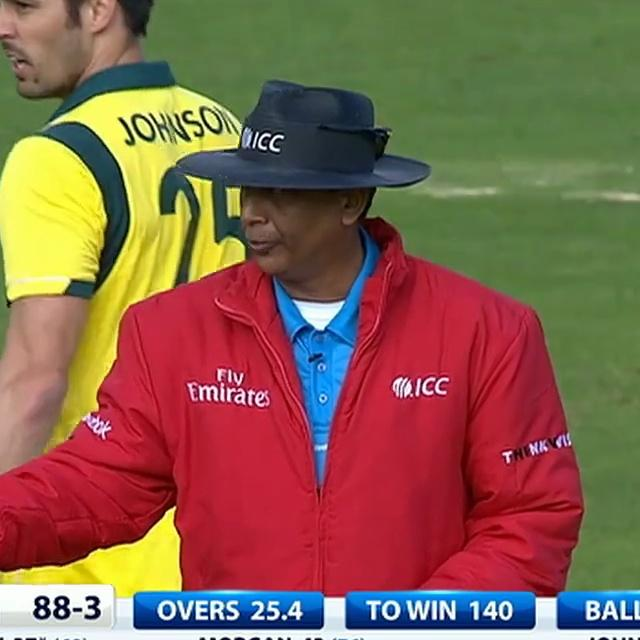umpire: (0, 19, 629, 589)
